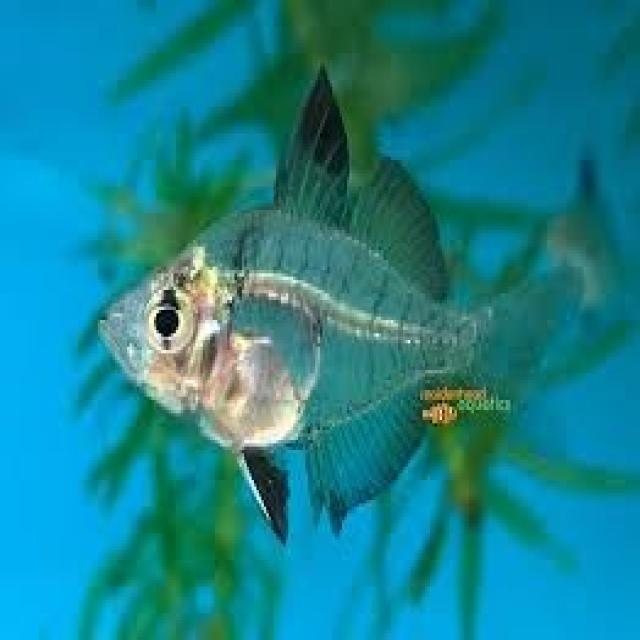Glass-Perchlet: (88, 76, 598, 542)
